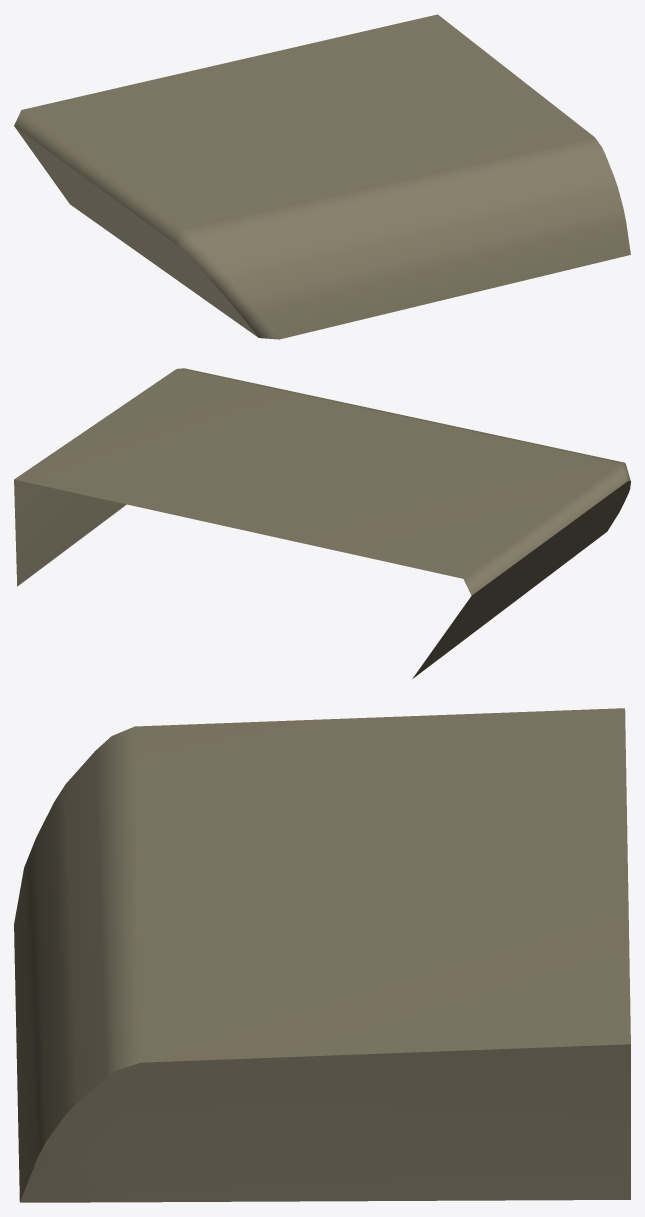
The model's file is ground_ground.fbx.
The picture shows the model from 3 angles, top to bottom: view 1: azimuth 30°, elevation 25°; view 2: azimuth 150°, elevation 25°; view 3: azimuth 270°, elevation 25°; orthographic projection. The views are drawn at different scales.
Parts seen in each view (by area): view 1: ground_ground; view 2: ground_ground; view 3: ground_ground.
Boxes of the visible parts, <box> form: ground_ground: <box>14,14,630,339</box>; ground_ground: <box>14,368,630,678</box>; ground_ground: <box>14,708,630,1202</box>.
Bounding box in the file's own units: 5.95 × 1.43 × 4.68.
